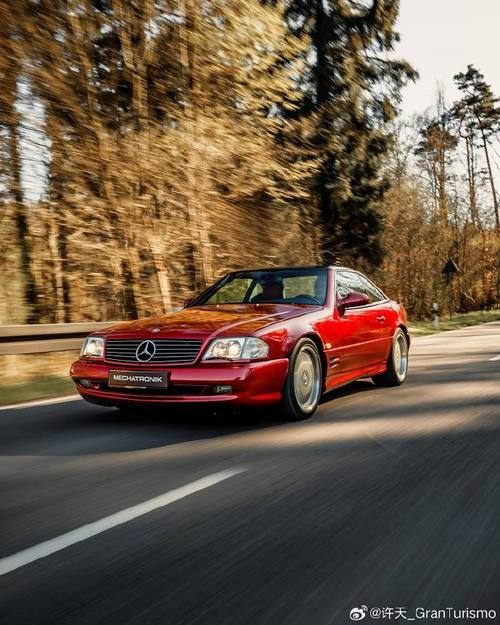汽车: (69, 256, 427, 435)
